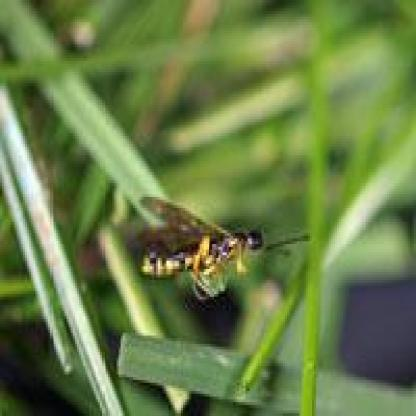sawfly: (125, 178, 313, 310)
